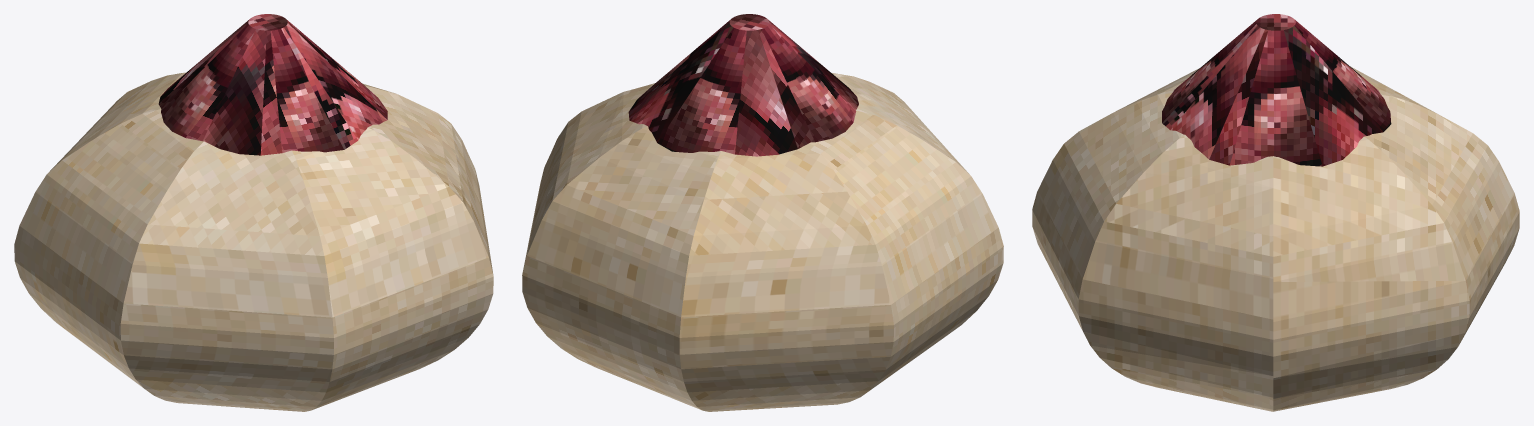
The model's file is dough_with_filling.fbx.
3 views of the same model, side by side, from view 1: azimuth 30°, elevation 25°; view 2: azimuth 150°, elevation 25°; view 3: azimuth 270°, elevation 25° (orthographic).
Parts seen in each view (by area): view 1: BezierCurve, Cylinder; view 2: BezierCurve, Cylinder; view 3: BezierCurve, Cylinder.
Part boxes in pixels (x1,y1,x2,y2): BezierCurve: [14, 72, 493, 411]; Cylinder: [158, 14, 387, 155]; BezierCurve: [522, 73, 1003, 411]; Cylinder: [628, 14, 858, 156]; BezierCurve: [1032, 66, 1519, 411]; Cylinder: [1162, 14, 1391, 166].
Bounding box in the file's own units: 6.66 × 5.34 × 6.82.
